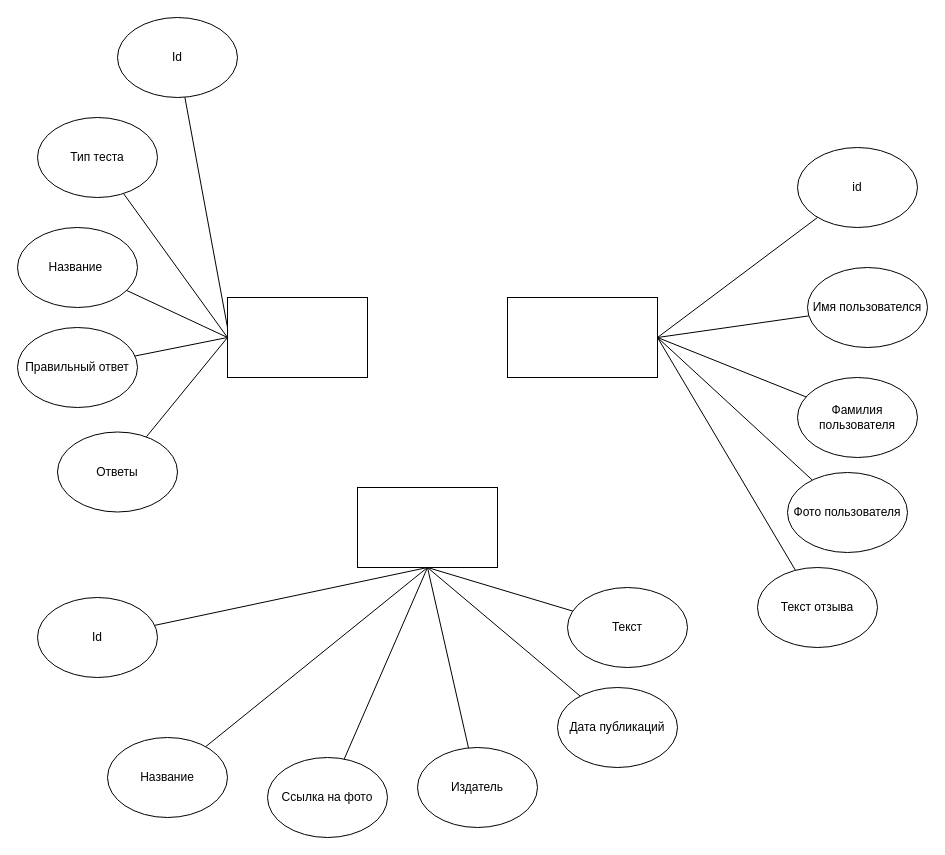
Some shapes in this 945 by 855 pixel diagram are drawn without their labels. Here are the shapes that lost their labels. From the top down, the centre of each, then its label:
At point 297,337: "Вопрос".
At point 582,337: "Отзыв".
At point 427,527: "Новость".
